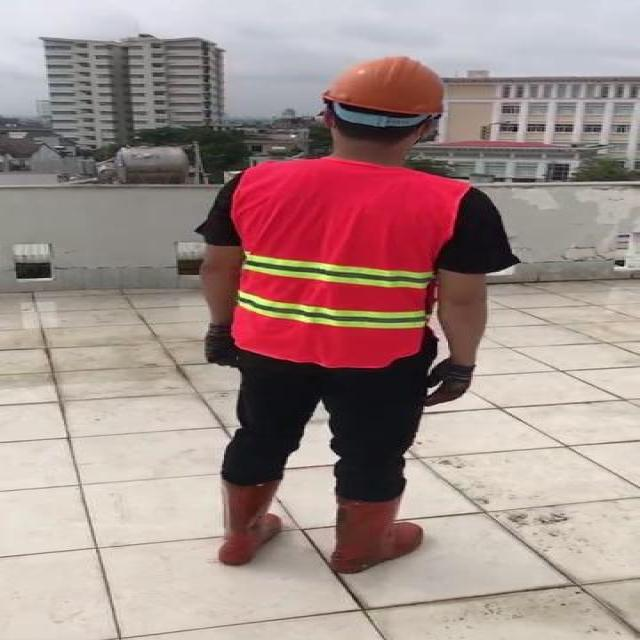boots: (331, 491, 421, 573), (220, 475, 281, 567)
hand_glove: (423, 362, 473, 407), (202, 323, 235, 369)
head_helmet: (316, 52, 456, 119)
person: (182, 48, 508, 590)
vest: (231, 162, 459, 365)
